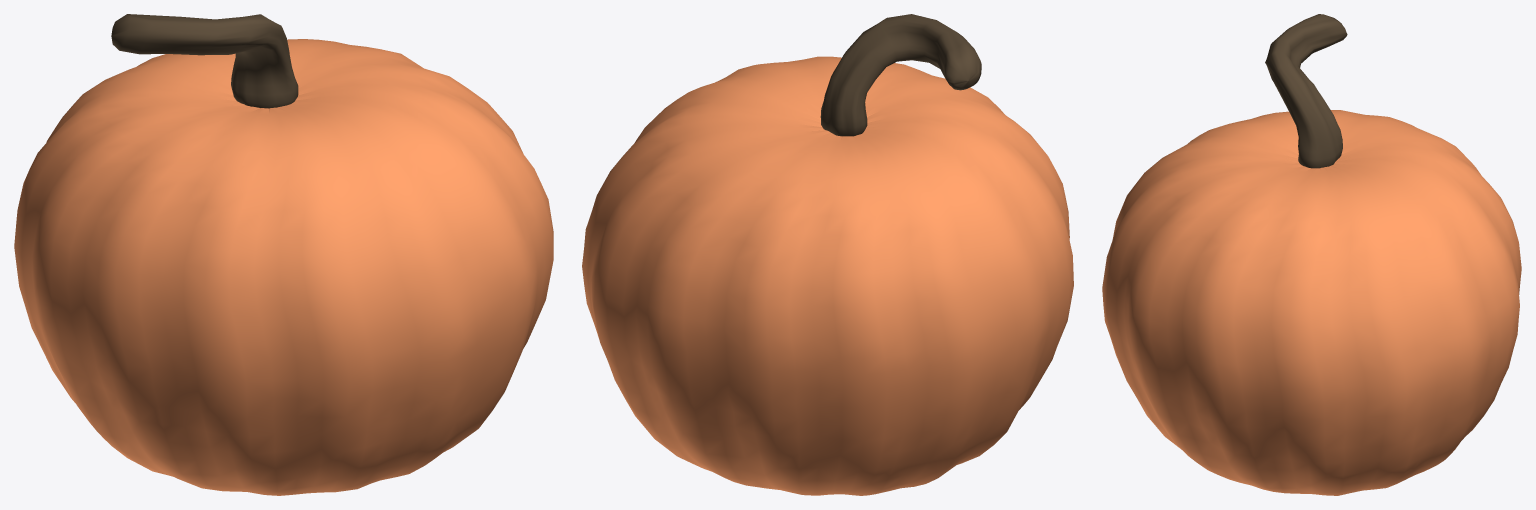
Rendered from KabakFix.fbx.
The picture shows the model from 3 angles, left to right: view 1: azimuth 30°, elevation 25°; view 2: azimuth 150°, elevation 25°; view 3: azimuth 270°, elevation 25°; orthographic projection. The views are drawn at different scales.
Parts seen in each view (by area): view 1: KabakDis, KabakSap; view 2: KabakDis, KabakSap; view 3: KabakDis, KabakSap.
Part boxes in pixels (x1,y1,x2,y2): KabakDis: (14,39,553,495); KabakSap: (111,14,298,108); KabakDis: (582,56,1073,495); KabakSap: (820,14,981,136); KabakDis: (1102,110,1521,495); KabakSap: (1265,14,1347,168).
Bounding box in the file's own units: 0.6592 × 0.6291 × 0.6344.
